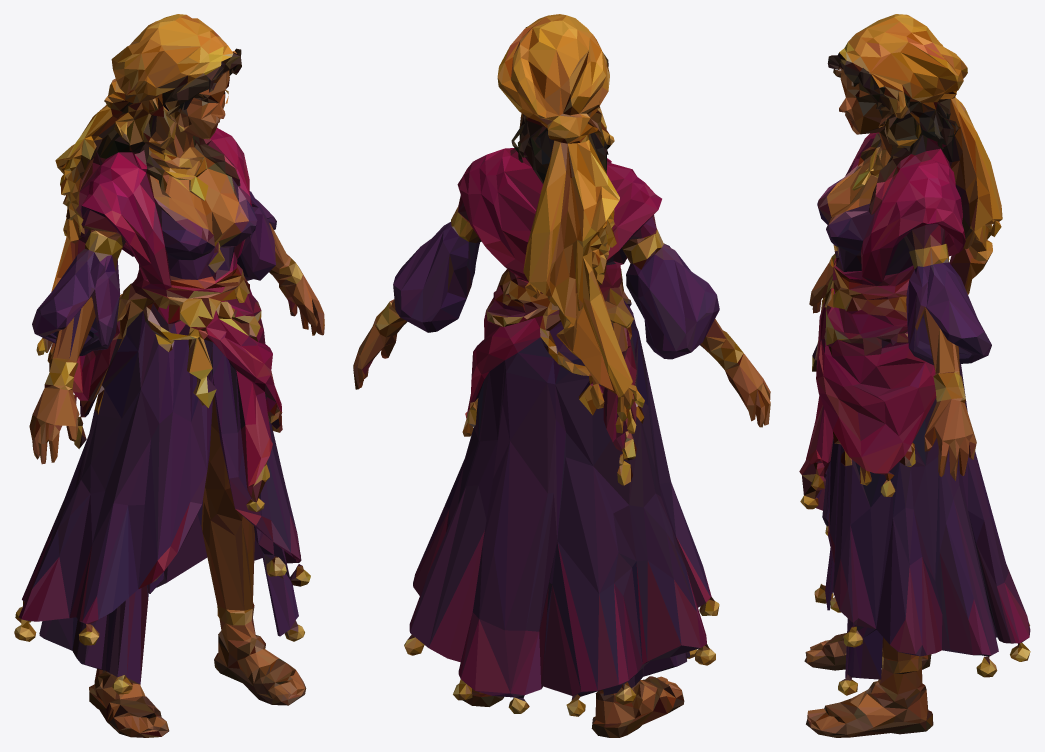
The model's file is zora.glb.
The picture shows the model from 3 angles, left to right: view 1: azimuth 30°, elevation 25°; view 2: azimuth 150°, elevation 25°; view 3: azimuth 270°, elevation 25°; orthographic projection. The views are drawn at different scales.
Visible parts, largest first — view 1: tripo_node_04714679-0956-4b2a-aea3-a1245a3c786d; view 2: tripo_node_04714679-0956-4b2a-aea3-a1245a3c786d; view 3: tripo_node_04714679-0956-4b2a-aea3-a1245a3c786d.
Boxes of the visible parts, bbox=[...] form: tripo_node_04714679-0956-4b2a-aea3-a1245a3c786d: bbox=[14, 14, 324, 737]; tripo_node_04714679-0956-4b2a-aea3-a1245a3c786d: bbox=[353, 14, 770, 737]; tripo_node_04714679-0956-4b2a-aea3-a1245a3c786d: bbox=[799, 14, 1030, 737].
Size of the model in its own units: 0.961 by 1.8 by 0.5593.
